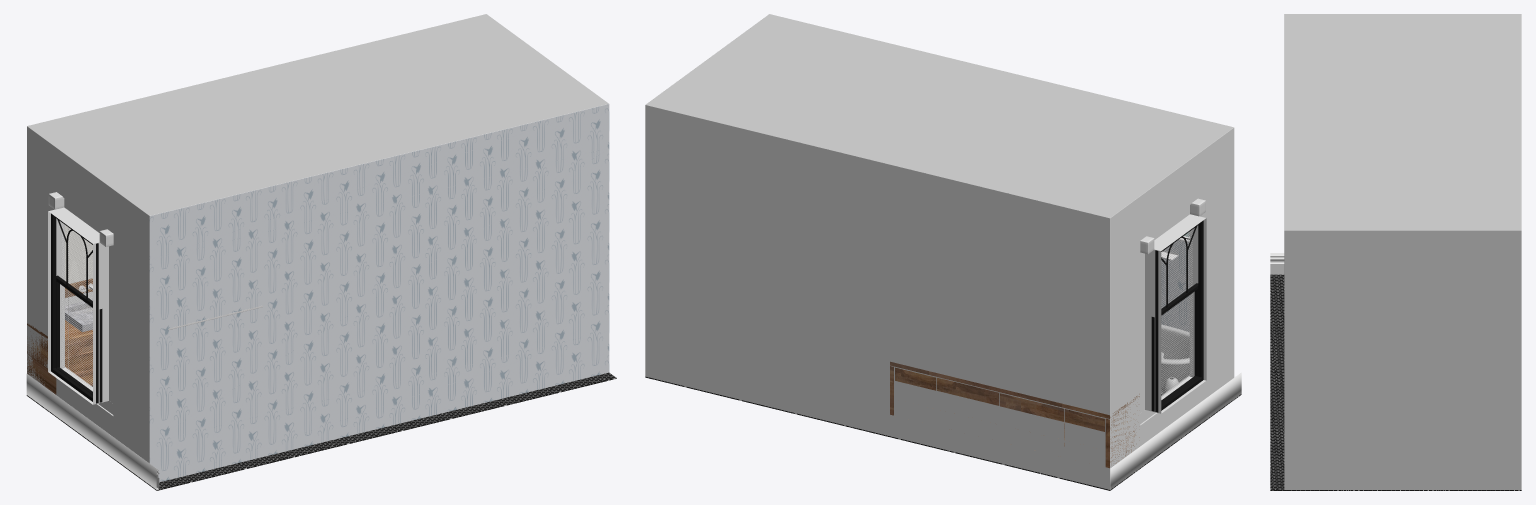
Rendered from bathroom.glb.
The picture shows the model from 3 angles, left to right: view 1: azimuth 30°, elevation 25°; view 2: azimuth 150°, elevation 25°; view 3: azimuth 270°, elevation 25°; orthographic projection. The views are drawn at different scales.
Visible parts, largest first — view 1: 848_Wallpaper, 849_Ceiling, 847_GreyWall, 842_WhiteWood, 845_Floor, 850_WhiteWood, 56_Blinds, 61_WindowFrame, 44_Mirror, 60_WindowFrame, 32_Wood, 43_Marble; view 2: 847_GreyWall, 849_Ceiling, 842_WhiteWood, 850_WhiteWood, 56_Blinds, 848_Wallpaper, 61_WindowFrame, 60_WindowFrame, 846_Wood, 843_Bathtube, 845_Floor, 08_Wood (+2 smaller); view 3: 849_Ceiling, 845_Floor, 850_WhiteWood.
Part boxes in pixels (left/top/right/bottom): 848_Wallpaper: left=149, top=104, right=609, bottom=482; 849_Ceiling: left=27, top=14, right=608, bottom=215; 847_GreyWall: left=27, top=126, right=149, bottom=463; 842_WhiteWood: left=48, top=198, right=113, bottom=415; 845_Floor: left=26, top=372, right=616, bottom=490; 850_WhiteWood: left=26, top=374, right=159, bottom=489; 56_Blinds: left=62, top=223, right=92, bottom=388; 61_WindowFrame: left=51, top=213, right=98, bottom=403; 44_Mirror: left=65, top=225, right=92, bottom=283; 60_WindowFrame: left=56, top=275, right=102, bottom=402; 32_Wood: left=27, top=336, right=56, bottom=394; 43_Marble: left=65, top=299, right=92, bottom=332; 847_GreyWall: left=645, top=105, right=1234, bottom=489; 849_Ceiling: left=645, top=14, right=1233, bottom=217; 842_WhiteWood: left=1140, top=205, right=1206, bottom=425; 850_WhiteWood: left=1110, top=372, right=1241, bottom=489; 56_Blinds: left=1161, top=230, right=1192, bottom=396; 848_Wallpaper: left=1161, top=233, right=1189, bottom=331; 61_WindowFrame: left=1155, top=220, right=1203, bottom=412; 60_WindowFrame: left=1151, top=283, right=1198, bottom=411; 846_Wood: left=890, top=361, right=1139, bottom=418; 843_Bathtube: left=1161, top=324, right=1189, bottom=364; 845_Floor: left=645, top=376, right=1241, bottom=490; 08_Wood: left=1000, top=393, right=1063, bottom=421; 849_Ceiling: left=1284, top=14, right=1521, bottom=489; 845_Floor: left=1270, top=274, right=1521, bottom=490; 850_WhiteWood: left=1270, top=253, right=1284, bottom=274.
Size of the model in its own units: 5.4 by 2.8 by 2.45.
31 materials, 9 textured.
